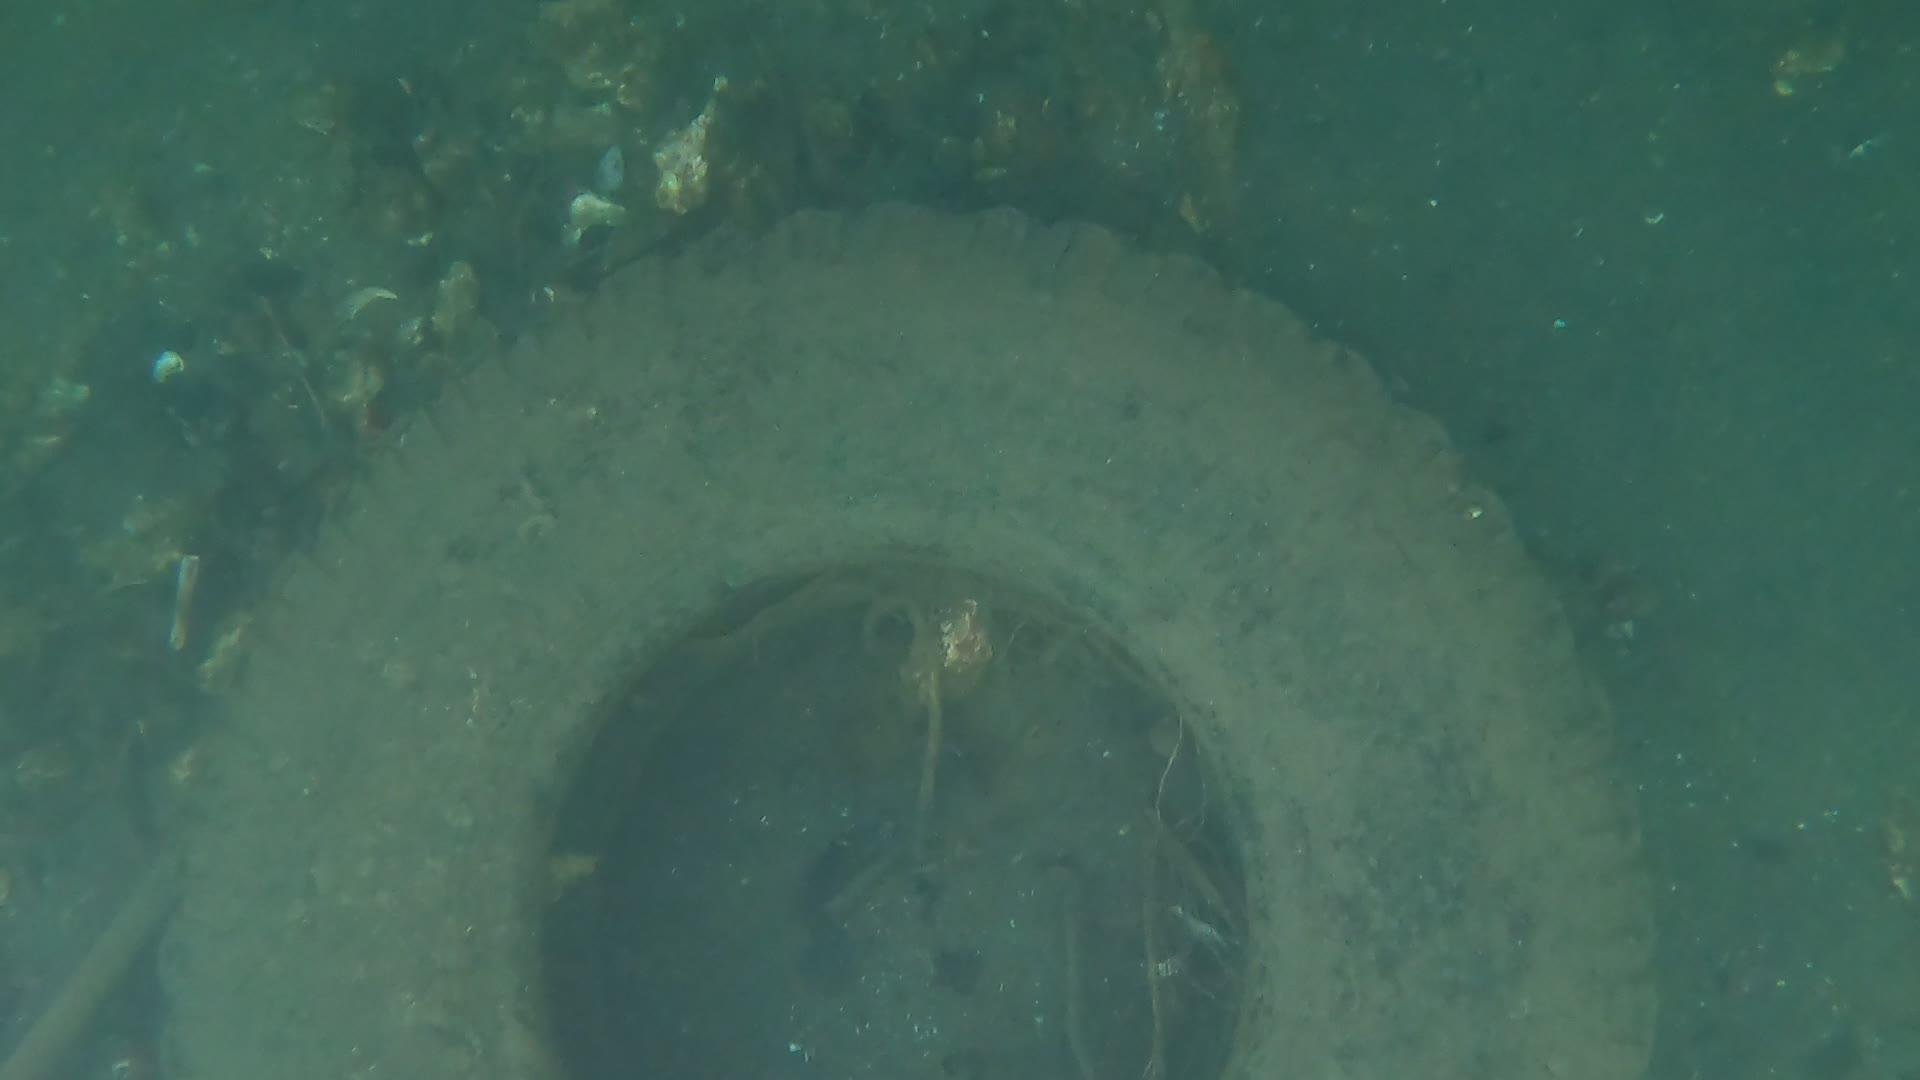tire: (160, 199, 1665, 1080)
